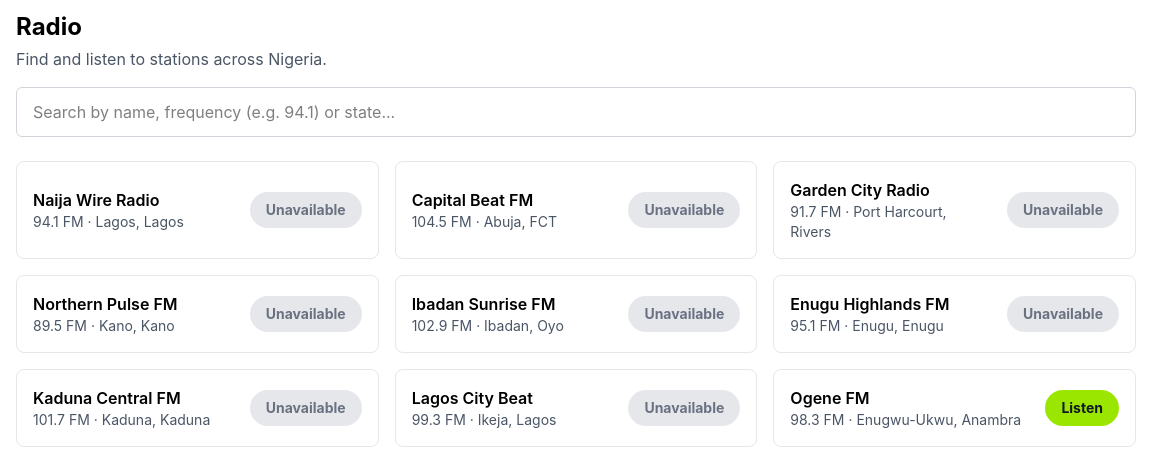
Test: RadioPage › finds stations by state
In the search field: (576, 112) x1=16 y1=87 x2=1136 y2=137, type "lagos"
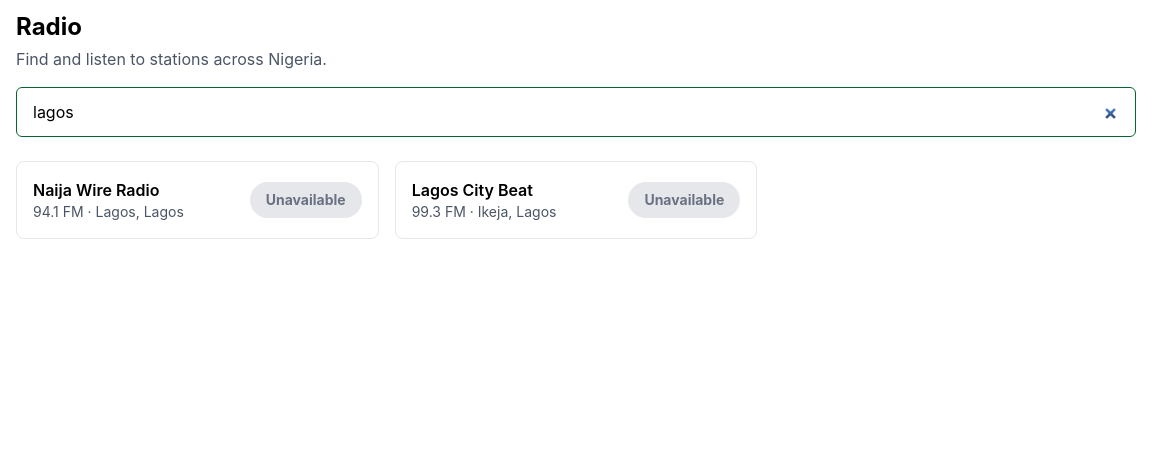
Check: the heading "Lagos City Beat" is shown, box x1=412 y1=180 x2=533 y2=200
Check: the heading "Northern Pulse FM" is gone
